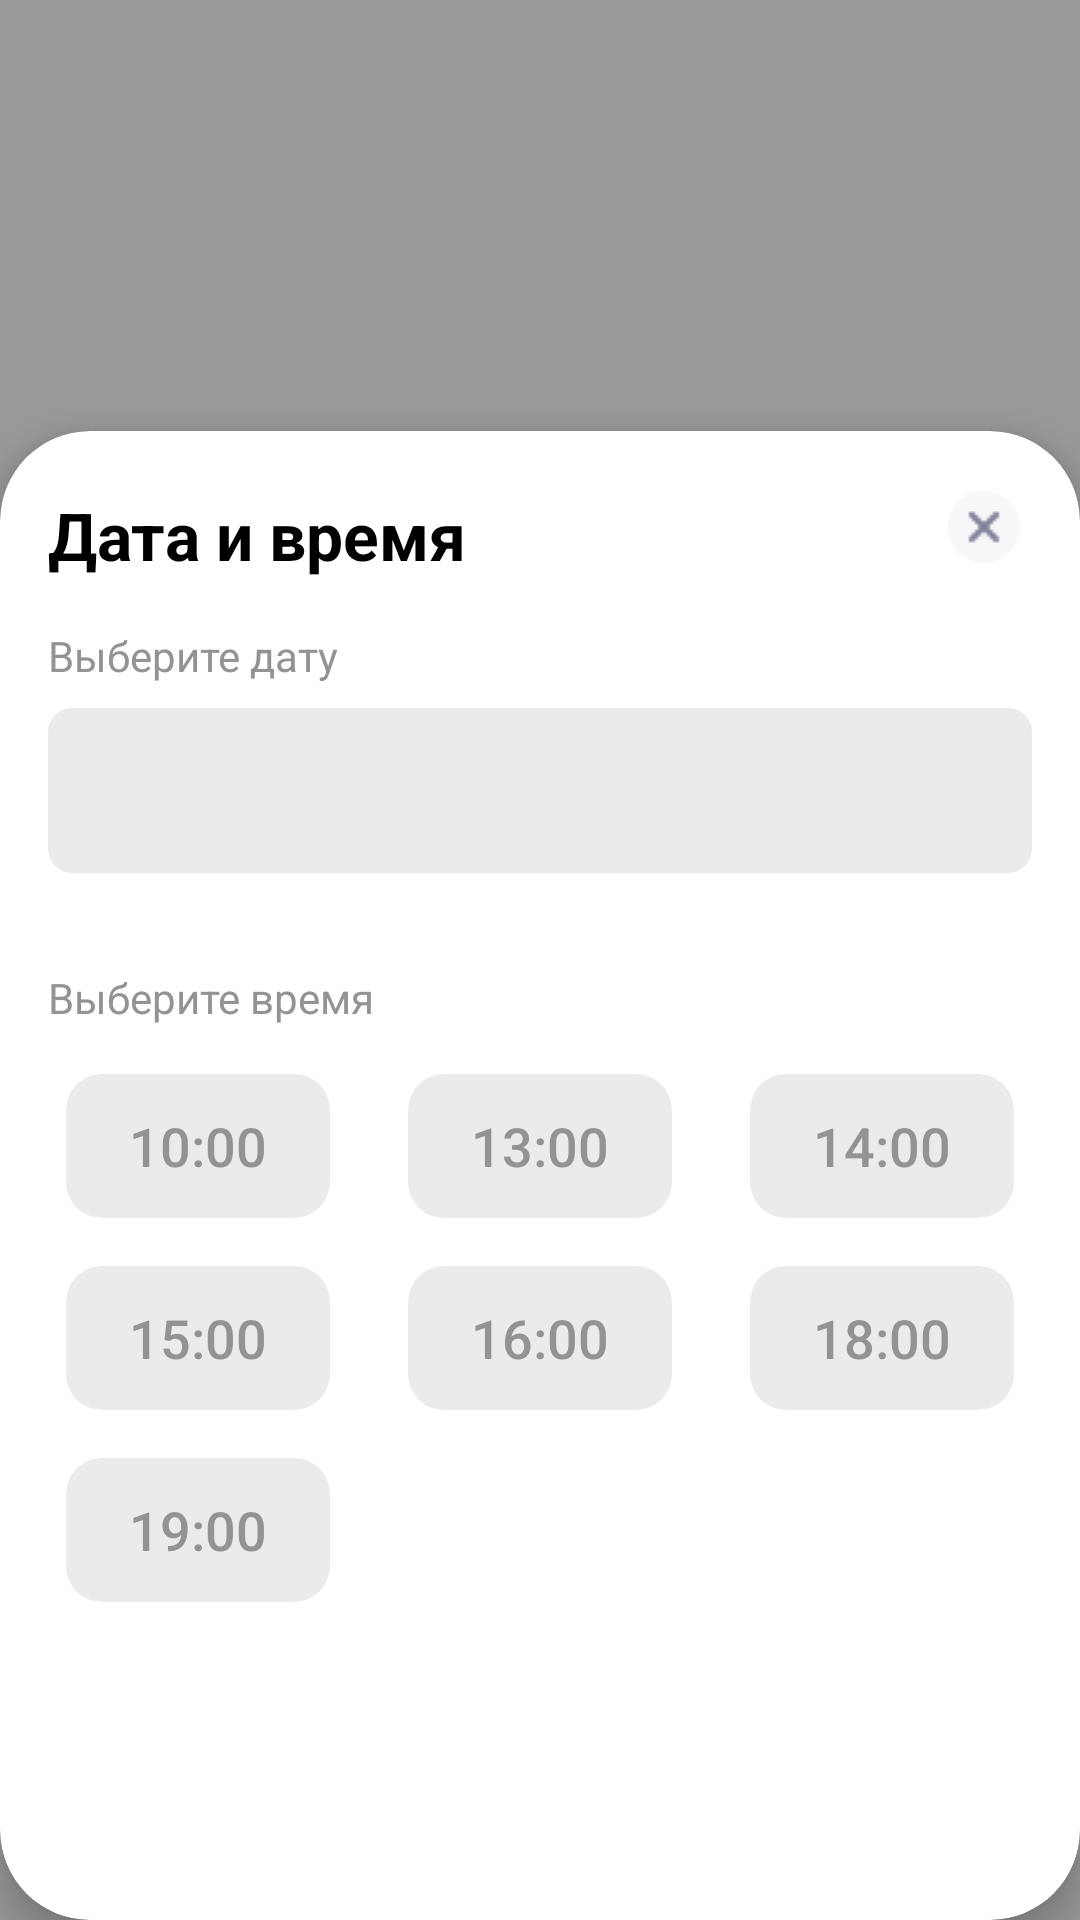

Icon click points for this 1080x1920 phone screenshot, format point (x, y):
close data analysis: point (984, 527)
